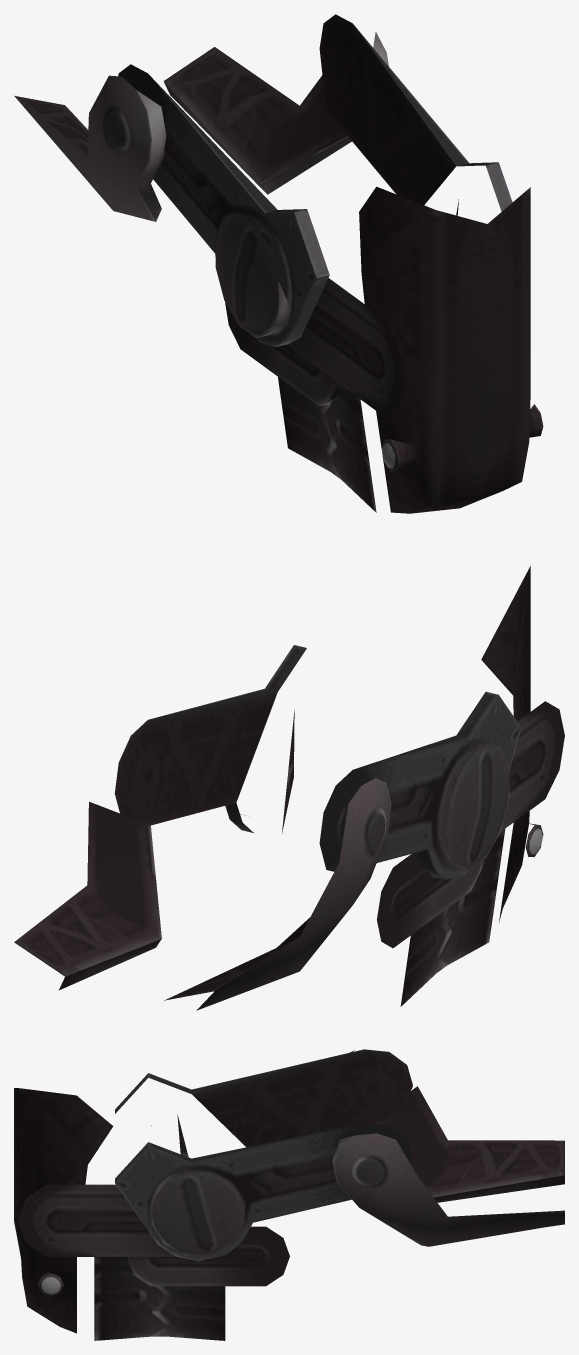
Rendered from part_skeletal.glb.
3 renders of one model, top to bottom at view 1: azimuth 30°, elevation 25°; view 2: azimuth 150°, elevation 25°; view 3: azimuth 270°, elevation 25°, orthographic. The views are drawn at different scales.
Parts seen in each view (by area): view 1: twingun.part_skeletal-Mesh[0]; view 2: twingun.part_skeletal-Mesh[0]; view 3: twingun.part_skeletal-Mesh[0].
Boxes of the visible parts, x1,y1,x2,y2 form: twingun.part_skeletal-Mesh[0]: [14, 14, 543, 513]; twingun.part_skeletal-Mesh[0]: [14, 566, 564, 1010]; twingun.part_skeletal-Mesh[0]: [14, 1049, 564, 1340].
Size of the model in its own units: 4.41 by 5.26 by 10.5.
Materials: 1 (1 with a texture image).
